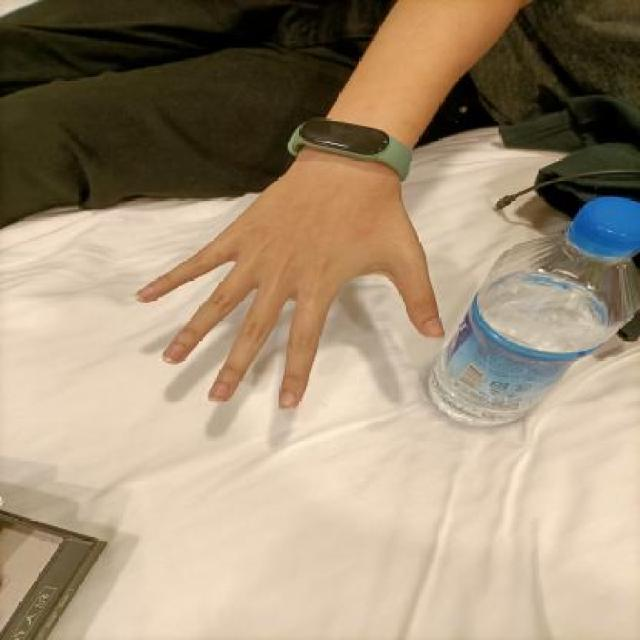bare_hand: (112, 114, 477, 428)
